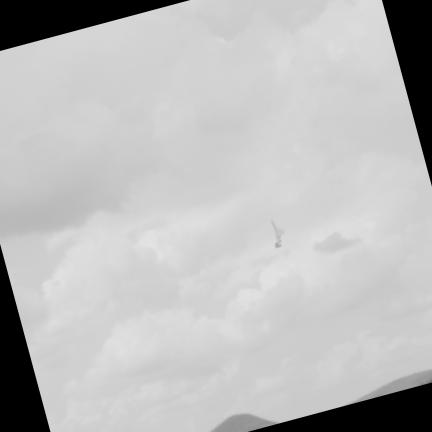Shahed: (271, 218, 284, 247)
